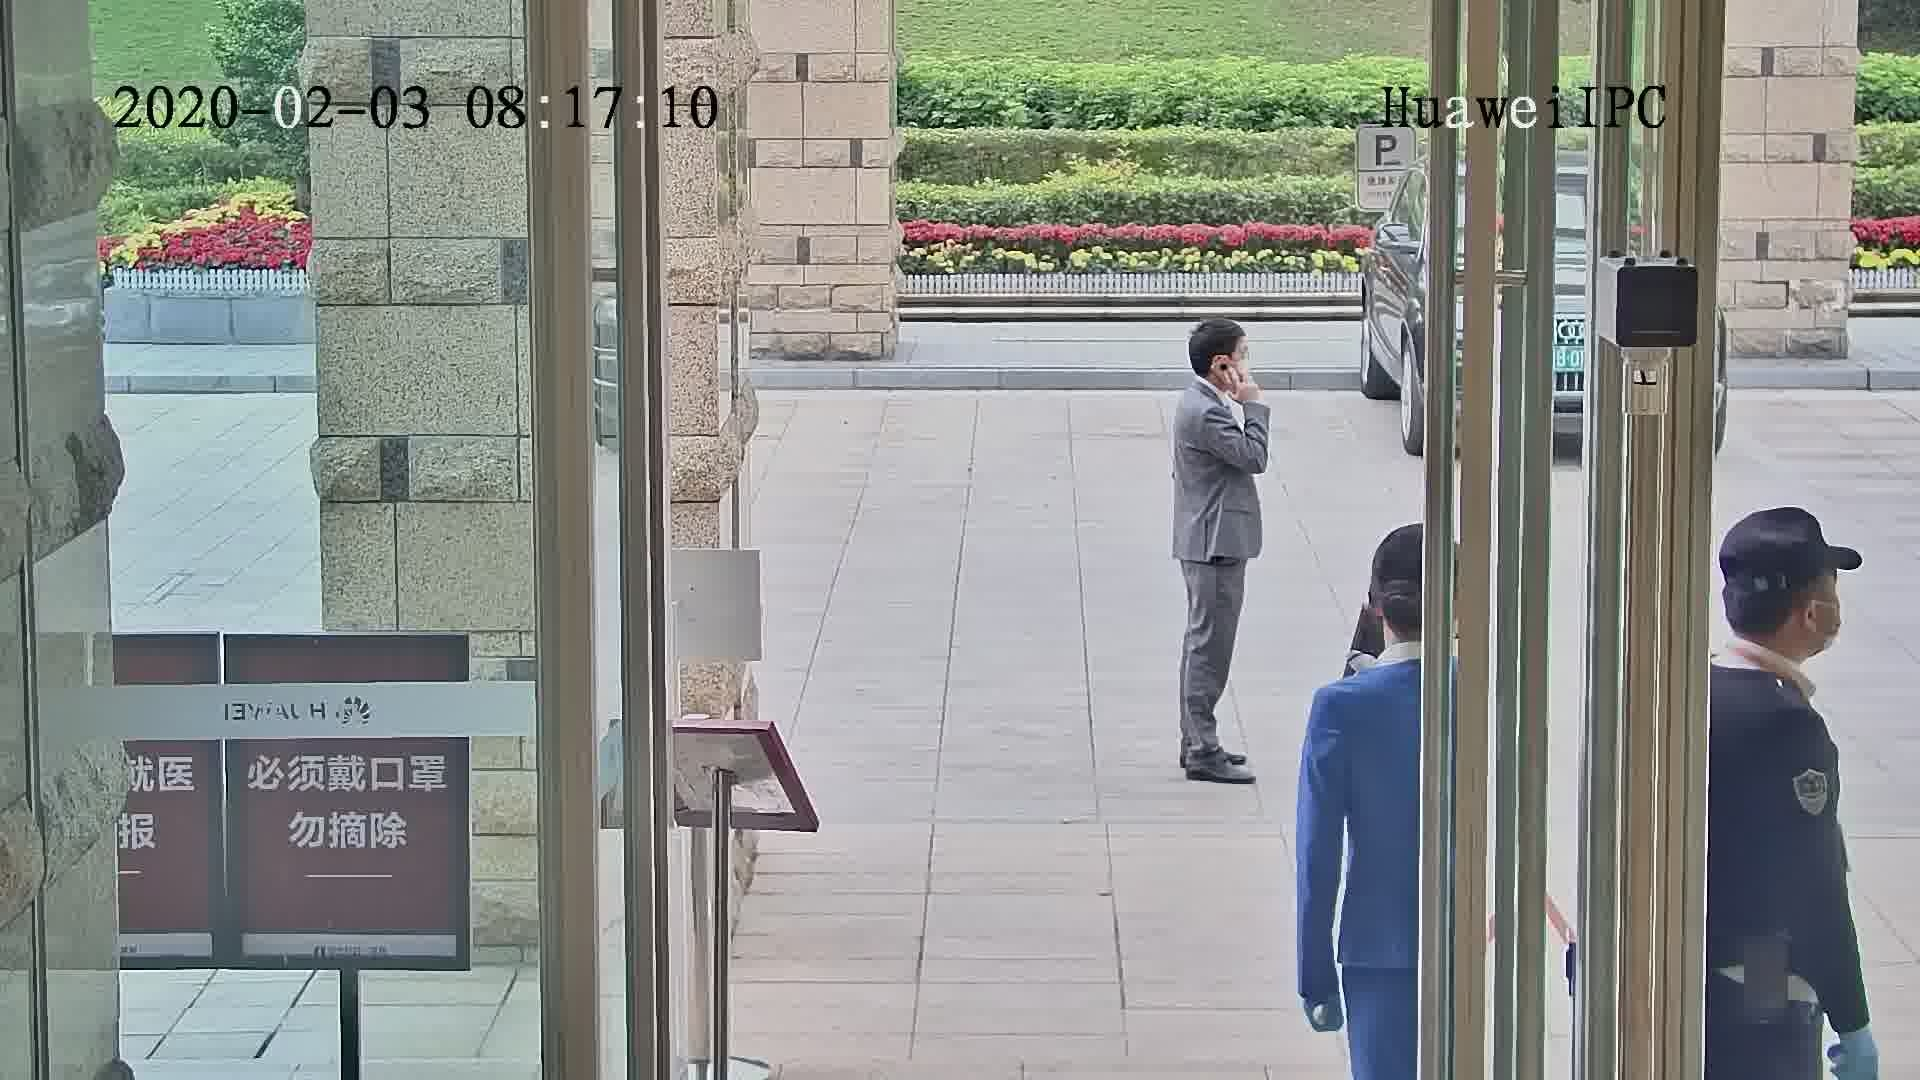person: (1704, 501, 1856, 786), (1311, 543, 1423, 746), (1171, 314, 1269, 447)
